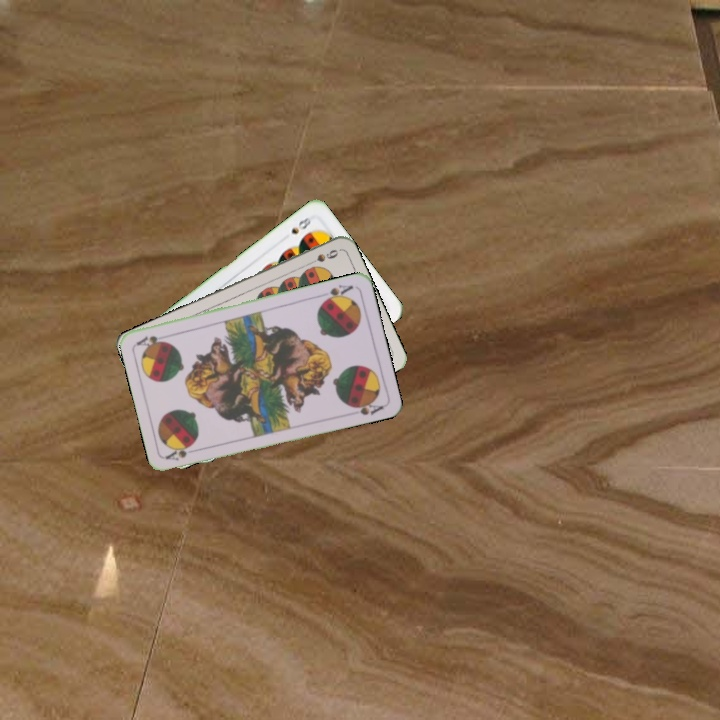S8: (287, 213, 314, 237)
S9: (302, 245, 341, 269)
SA: (318, 280, 356, 305), (162, 442, 203, 463)
